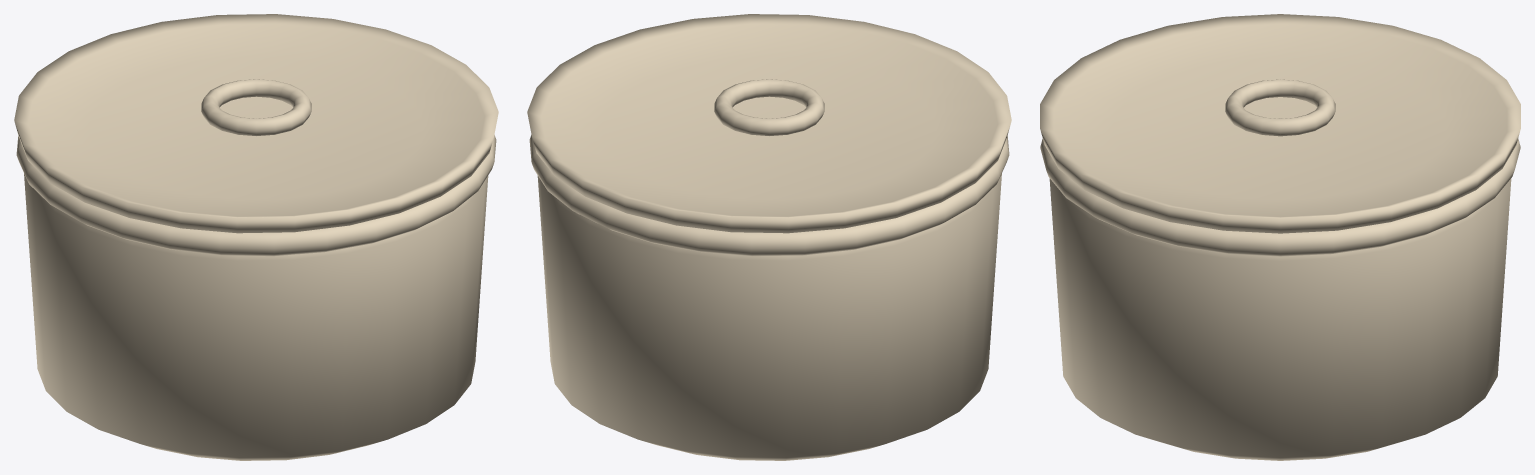
File: pets-and-companions-hd-toy-basket-1b4fbb94__28177.glb
The picture shows the model from 3 angles, left to right: view 1: azimuth 30°, elevation 25°; view 2: azimuth 150°, elevation 25°; view 3: azimuth 270°, elevation 25°; orthographic projection.
Visible parts, largest first — view 1: toy-basket, basket-lid; view 2: toy-basket, basket-lid; view 3: toy-basket, basket-lid.
Boxes of the visible parts, x1,y1,x2,y2 form: toy-basket: (16,135,496,460); basket-lid: (14,14,498,233); toy-basket: (529,135,1009,460); basket-lid: (527,14,1011,233); toy-basket: (1040,139,1520,460); basket-lid: (1040,14,1520,233).
Bounding box in the file's own units: 0.52 × 0.335 × 0.5162.
